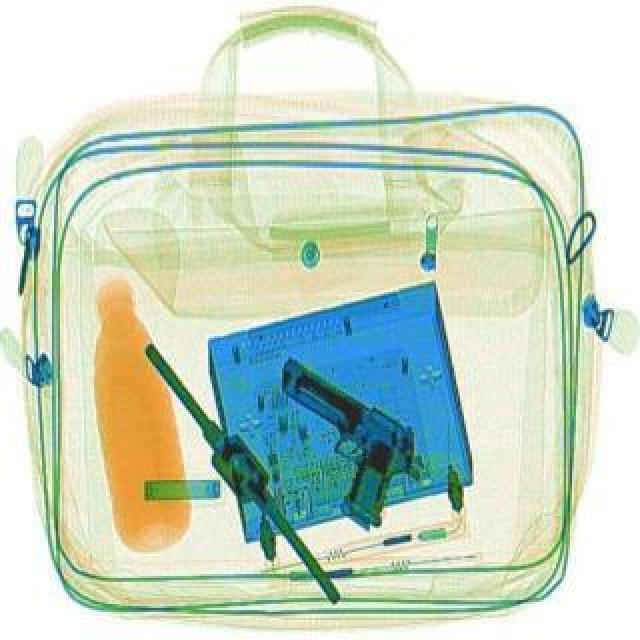gun: (224, 350, 440, 534)
